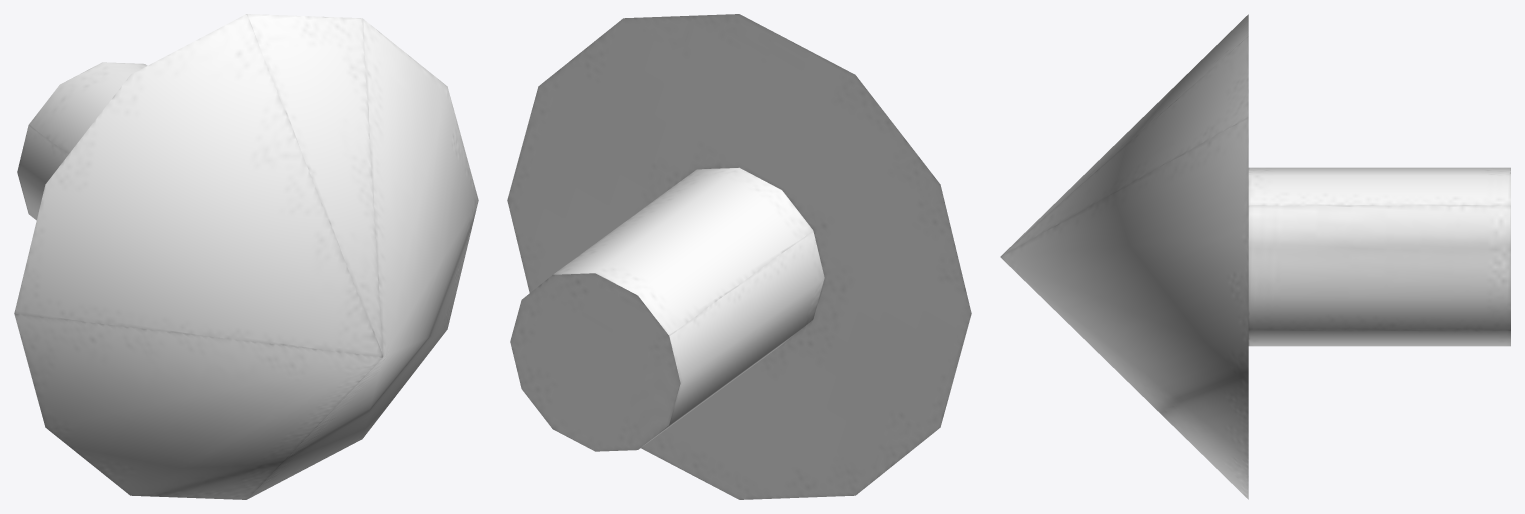
The model's file is roundArrow.obj.
The picture shows the model from 3 angles, left to right: view 1: azimuth 30°, elevation 25°; view 2: azimuth 150°, elevation 25°; view 3: azimuth 270°, elevation 25°; orthographic projection. The views are drawn at different scales.
Visible parts, largest first — view 1: Rectangle002; view 2: Rectangle002; view 3: Rectangle002.
Part boxes in pixels (x1,y1,x2,y2): Rectangle002: [14, 14, 478, 499]; Rectangle002: [507, 14, 971, 499]; Rectangle002: [1000, 14, 1510, 499].
Bounding box in the file's own units: 0.9274 × 0.9274 × 0.971.
1 material, 1 textured.
